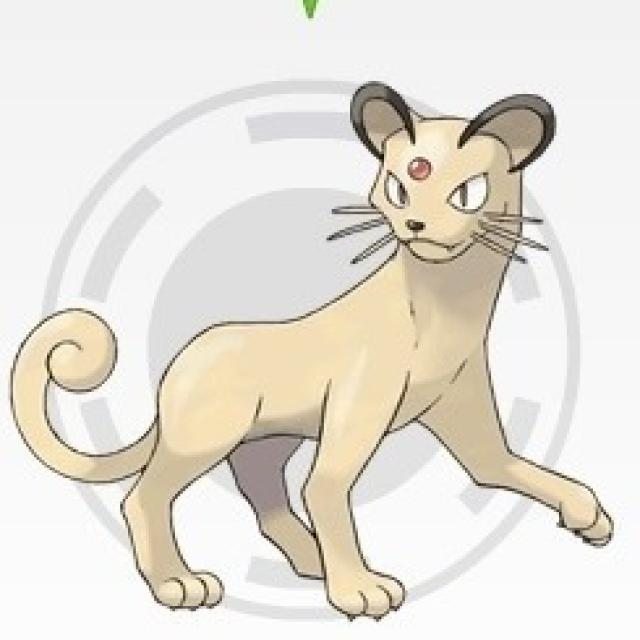Persian: (175, 88, 631, 614)
